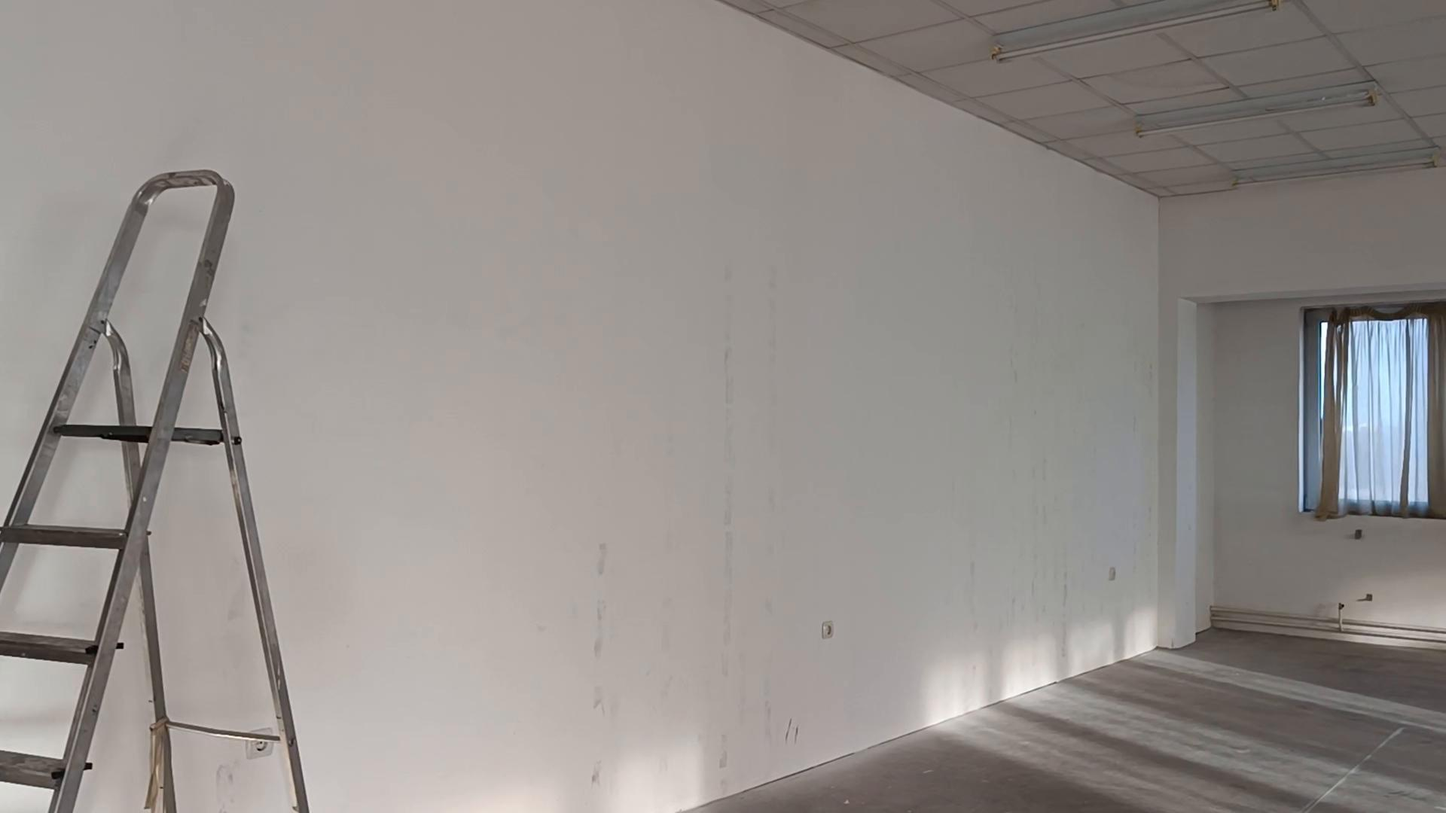ceiling: (721, 0, 1445, 196)
floor: (691, 629, 1445, 812)
wall: (0, 0, 1445, 812), (153, 446, 270, 726)
